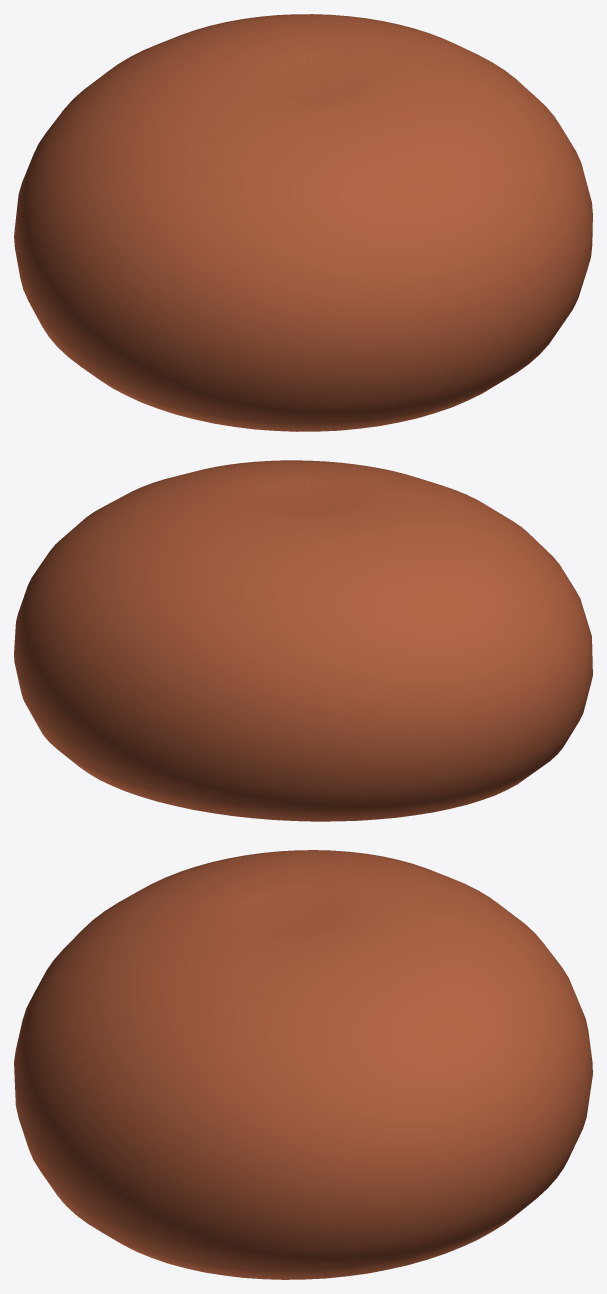
Rendered from beanbag.glb.
3 renders of one model, top to bottom at view 1: azimuth 30°, elevation 25°; view 2: azimuth 150°, elevation 25°; view 3: azimuth 270°, elevation 25°, orthographic. The views are drawn at different scales.
Visible parts, largest first — view 1: beanbag_fabric; view 2: beanbag_fabric; view 3: beanbag_fabric.
Part boxes in pixels (left/top/right/bottom): beanbag_fabric: left=14, top=14, right=592, bottom=431; beanbag_fabric: left=14, top=460, right=592, bottom=821; beanbag_fabric: left=14, top=850, right=592, bottom=1279.
Size of the model in its own units: 0.9484 by 0.4873 by 0.8849.
